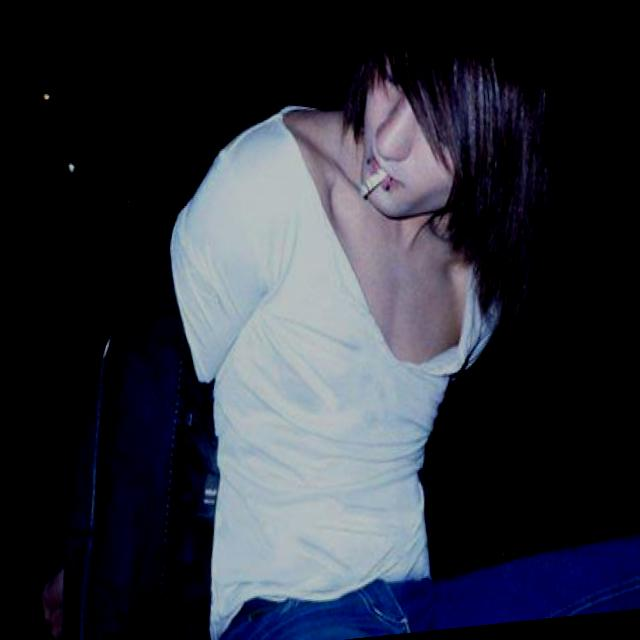cigarette: (350, 158, 396, 214)
